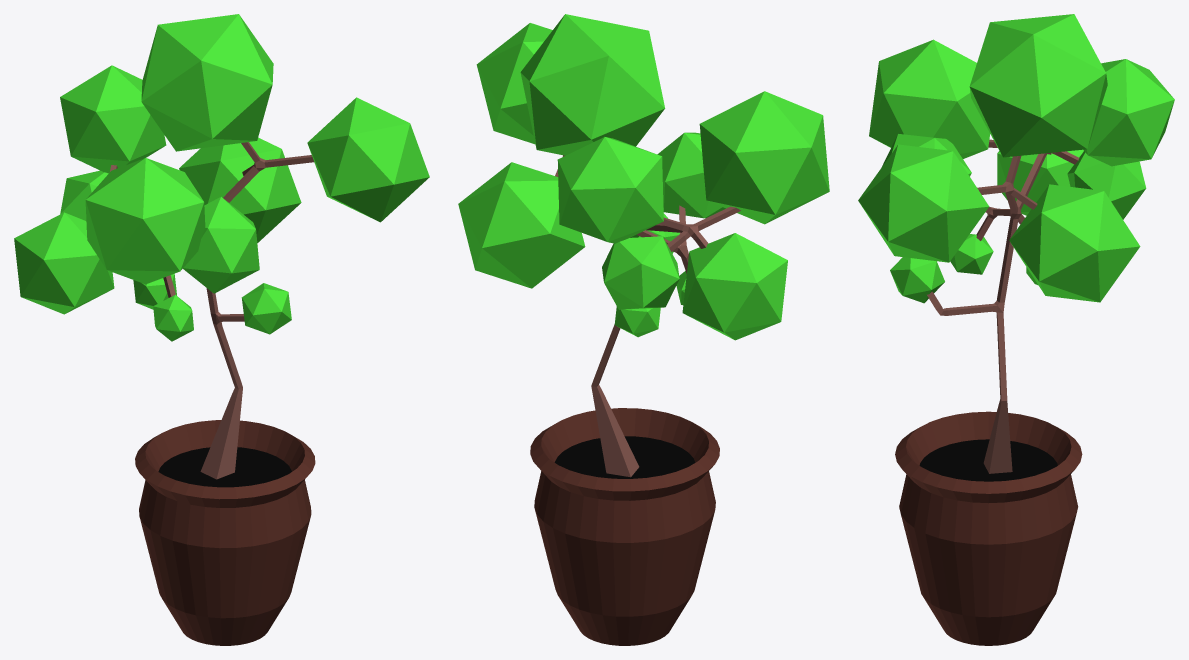
The model's file is TreeDecoration.fbx.
3 views of the same model, side by side, from view 1: azimuth 30°, elevation 25°; view 2: azimuth 150°, elevation 25°; view 3: azimuth 270°, elevation 25° (orthographic). The views are drawn at different scales.
Parts seen in each view (by area): view 1: Dırt, Icosphere.006, Icosphere, Icosphere.010, Icosphere.004, Icosphere.003, Grass, Icosphere.008, Wood, Icosphere.002, Icosphere.009, Icosphere.005 (+1 smaller); view 2: Dırt, Icosphere.006, Icosphere, Grass, Icosphere.004, Icosphere.003, Icosphere.005, Icosphere.010, Wood, Icosphere.008, Icosphere.001; view 3: Dırt, Icosphere.006, Icosphere.010, Grass, Icosphere, Icosphere.004, Wood, Icosphere.005, Icosphere.003, Icosphere.002, Icosphere.009, Icosphere.008.
Part boxes in pixels (<box>): Dırt: <box>135,420,315,645</box>; Icosphere.006: <box>141,14,273,151</box>; Icosphere: <box>85,158,205,284</box>; Icosphere.010: <box>307,97,429,222</box>; Icosphere.004: <box>60,65,166,173</box>; Icosphere.003: <box>14,212,114,314</box>; Grass: <box>179,137,301,242</box>; Icosphere.008: <box>183,197,259,293</box>; Wood: <box>110,142,313,479</box>; Icosphere.002: <box>241,283,291,334</box>; Icosphere.009: <box>153,294,193,341</box>; Icosphere.005: <box>60,170,108,220</box>; Dırt: <box>530,408,719,645</box>; Icosphere.006: <box>520,14,665,155</box>; Icosphere: <box>699,91,829,224</box>; Grass: <box>458,162,585,288</box>; Icosphere.004: <box>557,137,663,243</box>; Icosphere.003: <box>682,233,787,340</box>; Icosphere.005: <box>602,236,679,309</box>; Icosphere.010: <box>476,23,552,144</box>; Wood: <box>555,155,740,477</box>; Icosphere.008: <box>657,132,725,218</box>; Icosphere.001: <box>614,306,660,337</box>; Dırt: <box>895,411,1082,645</box>; Icosphere.006: <box>969,14,1107,157</box>; Icosphere.010: <box>858,144,989,262</box>; Grass: <box>1009,184,1140,302</box>; Icosphere: <box>869,39,989,158</box>; Icosphere.004: <box>1083,59,1174,166</box>; Wood: <box>927,139,1079,473</box>; Icosphere.005: <box>1067,151,1146,219</box>; Icosphere.003: <box>997,149,1083,215</box>; Icosphere.002: <box>890,257,944,303</box>; Icosphere.009: <box>950,234,993,274</box>; Icosphere.008: <box>882,134,971,176</box>.
Bounding box in the file's own units: 147 × 245 × 115.
